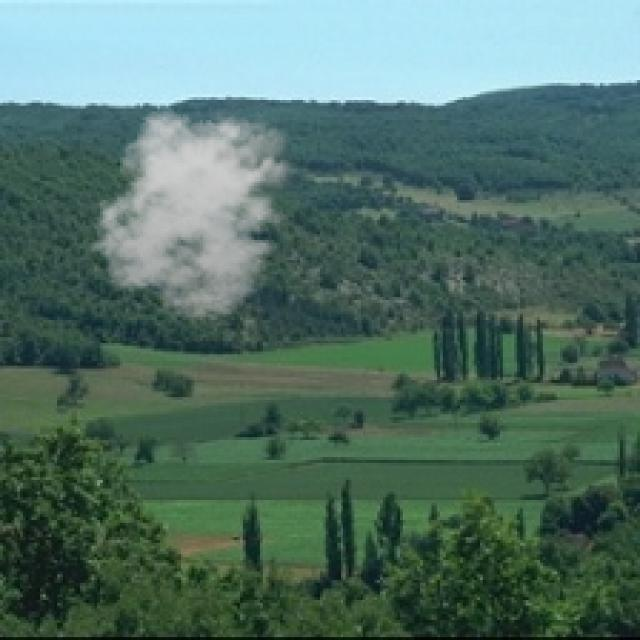smoke: (88, 103, 303, 320)
